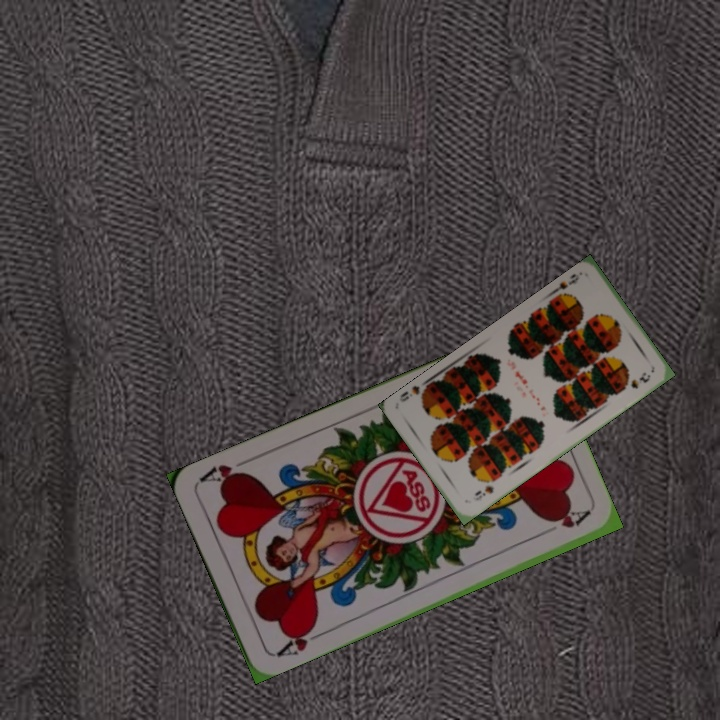HA: (270, 620, 325, 660)
S9: (548, 268, 584, 302), (471, 482, 497, 504)
